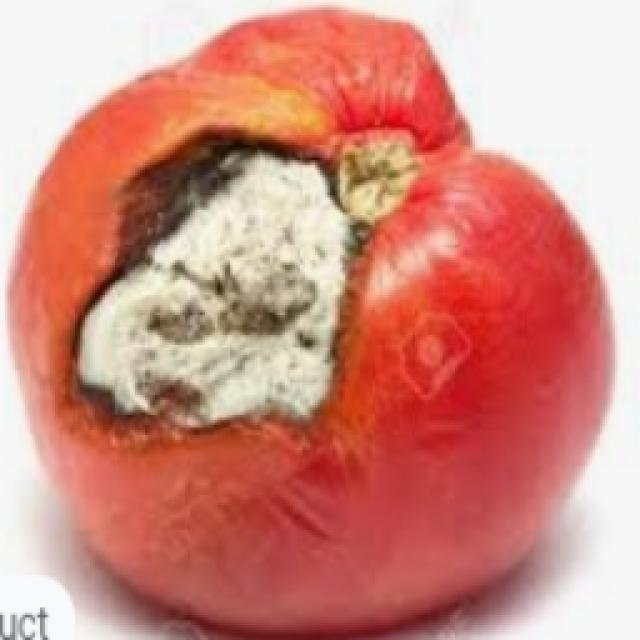overripe tomato: (18, 11, 615, 618)
